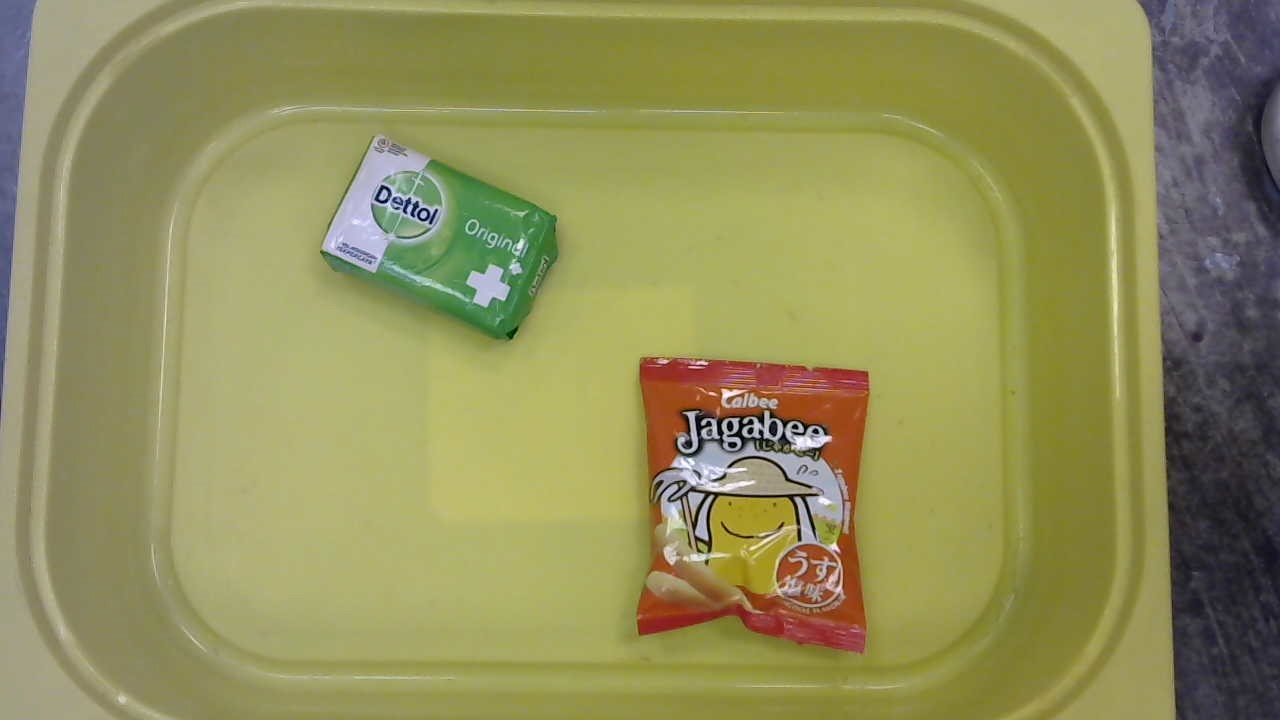Dettol: (311, 129, 566, 348)
JagabeeFarmer: (629, 353, 876, 665)
